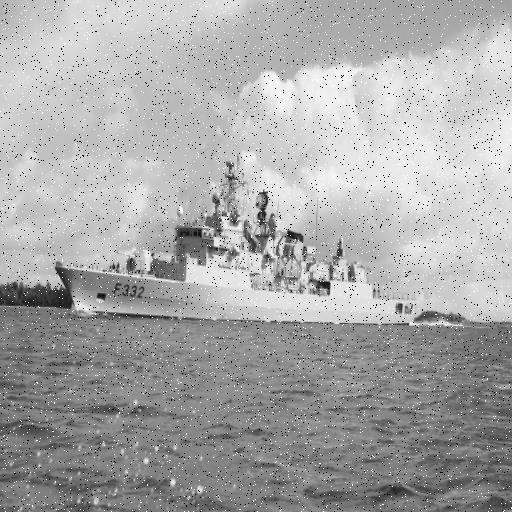Fragata: (55, 153, 418, 328)
